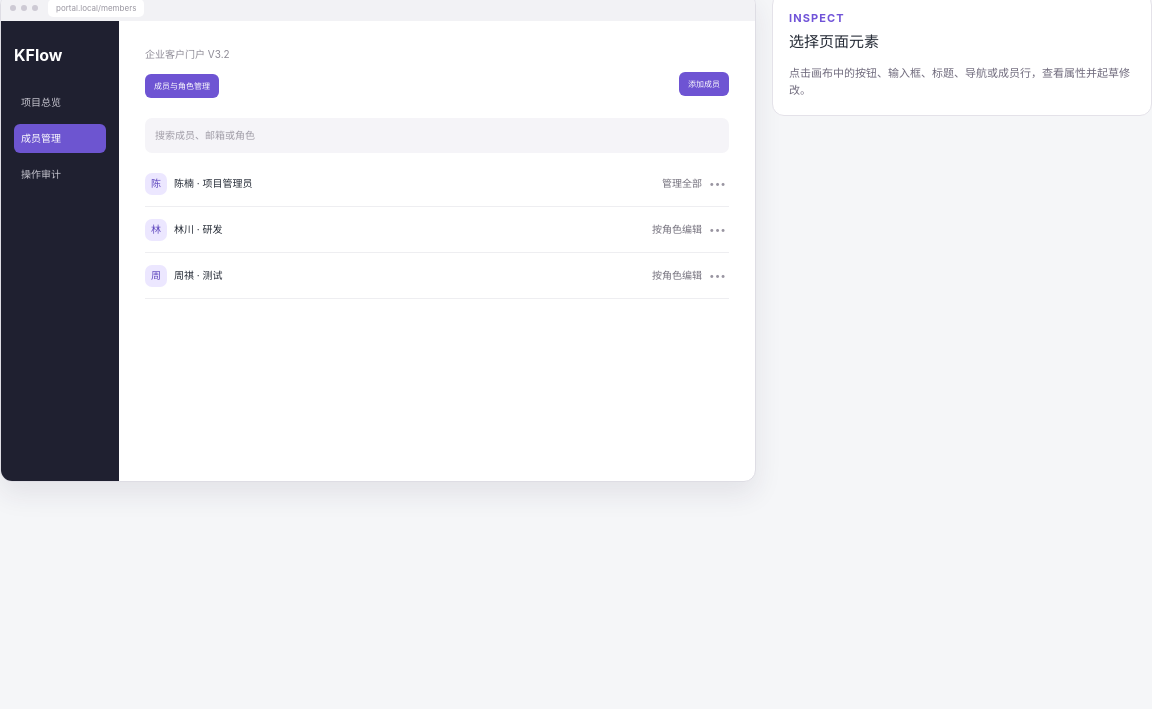
it: rejects an unsupported instruction and enables apply after a corrected change
Click the button with aria-label "选择成员搜索输入框". click: (205, 135)
box: [145,118,729,153]
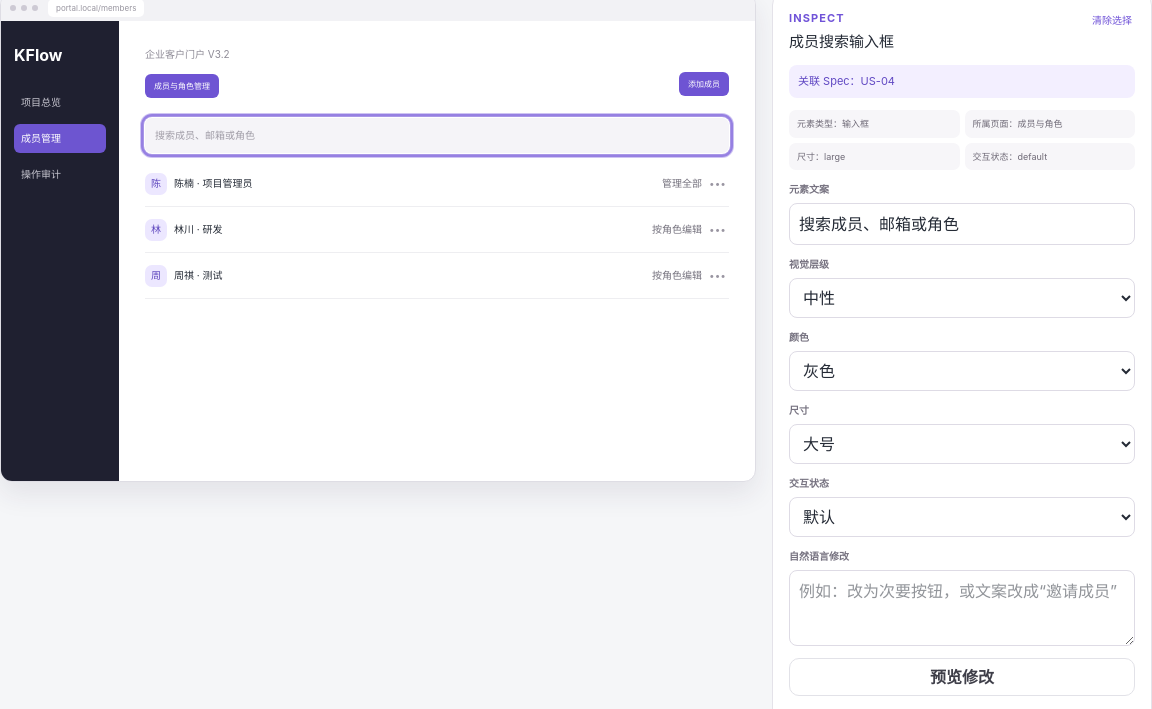
Type "让搜索提示更简洁" into the text box named "描述对选中元素的修改". click: (962, 608)
box: [789,570,1135,646]
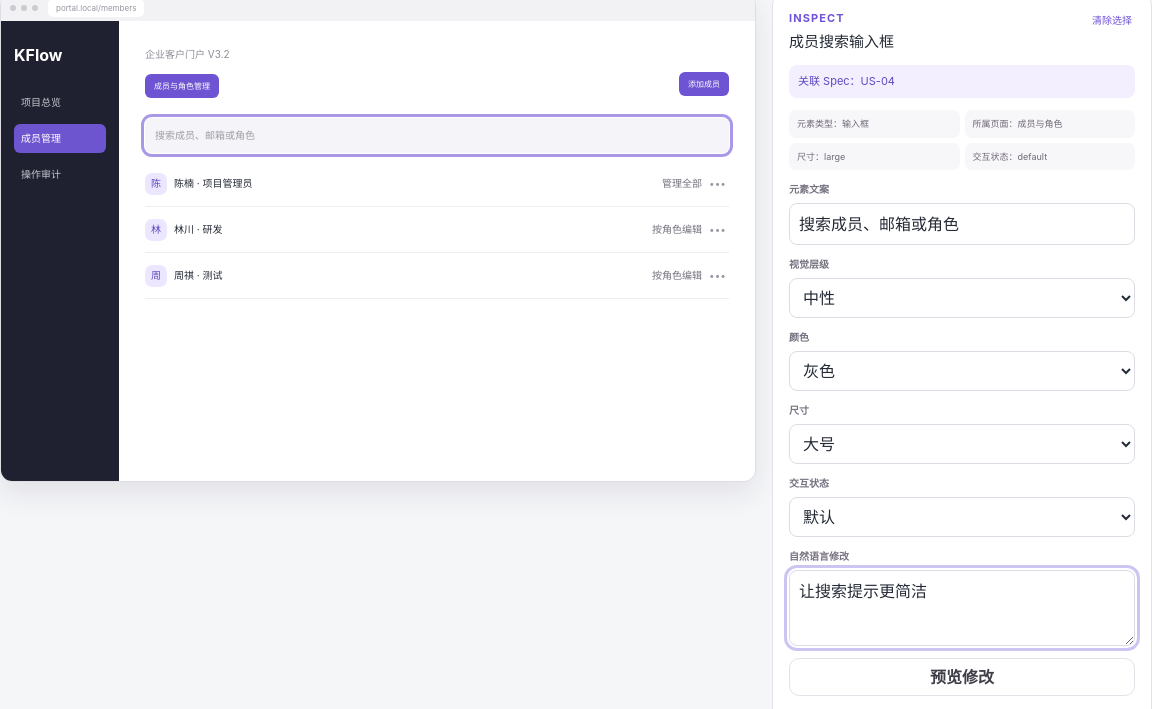
Click the button "预览修改". click: (962, 677)
box: [789,658,1135,696]
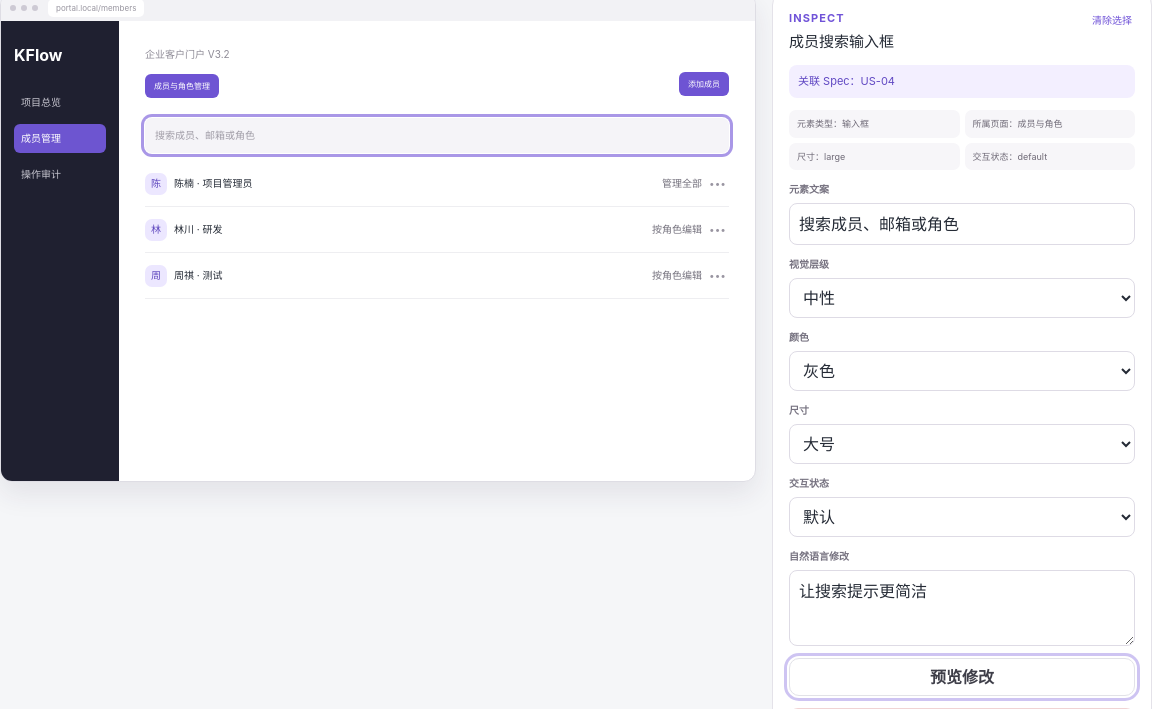
Replace the text in the text box named "描述对选中元素的修改" with "文案改成“搜索姓名或邮箱”". click: (962, 608)
box: [789,570,1135,646]
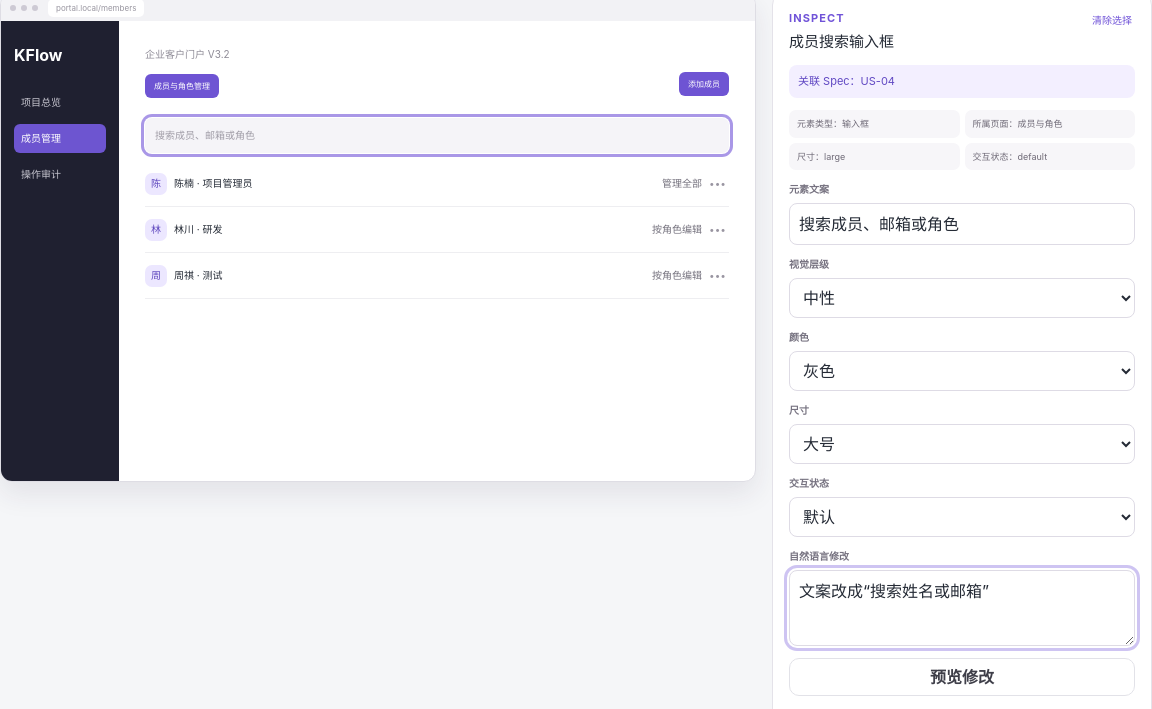
Click the button "预览修改". click: (962, 677)
box: [789,658,1135,696]
(page scrolled)
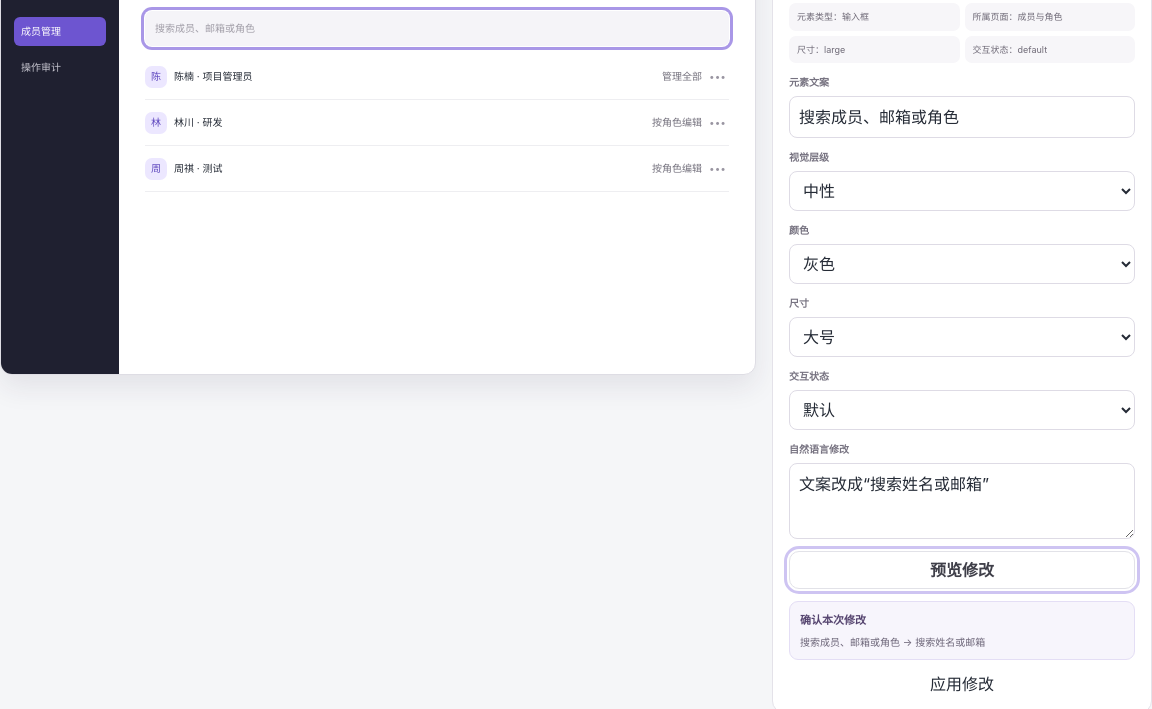
Check: the text "搜索成员、邮箱或角色 → 搜索姓名或邮箱" is shown, box [800,636,985,648]
Check: the button "应用修改" is enabled, box [789,672,1135,696]
